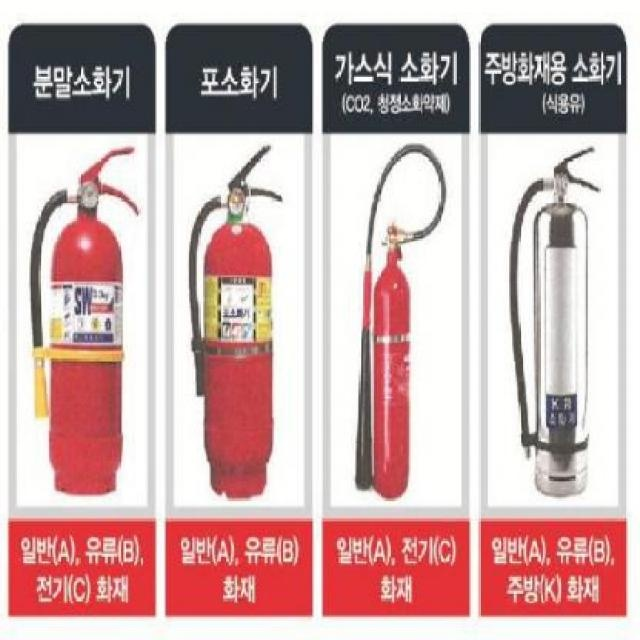fire extinguisher: (29, 147, 140, 496), (187, 144, 281, 499), (356, 143, 447, 500), (509, 146, 600, 499)
